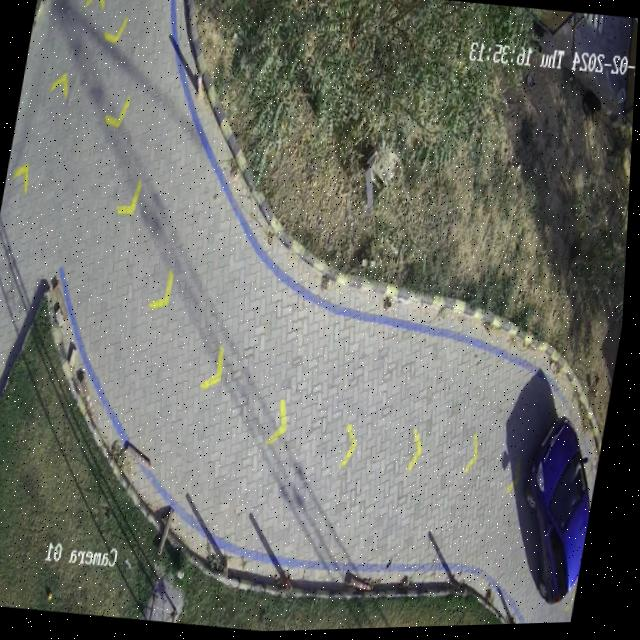car: (530, 419, 596, 606)
